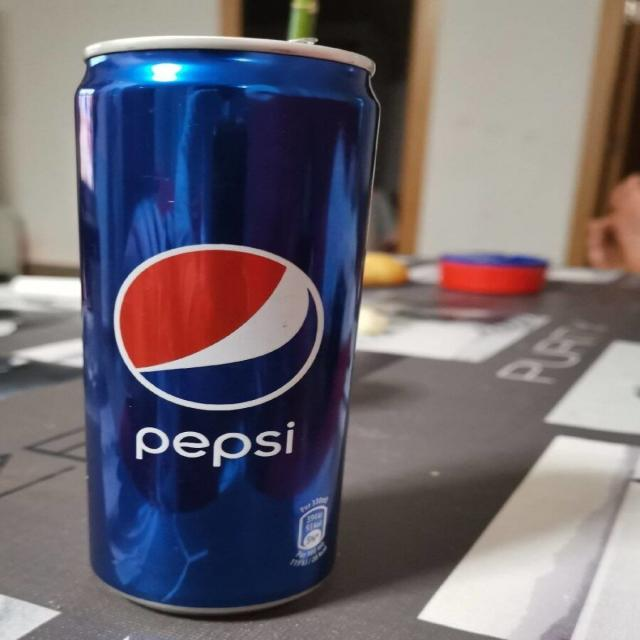non-organic waste: (59, 34, 386, 620)
